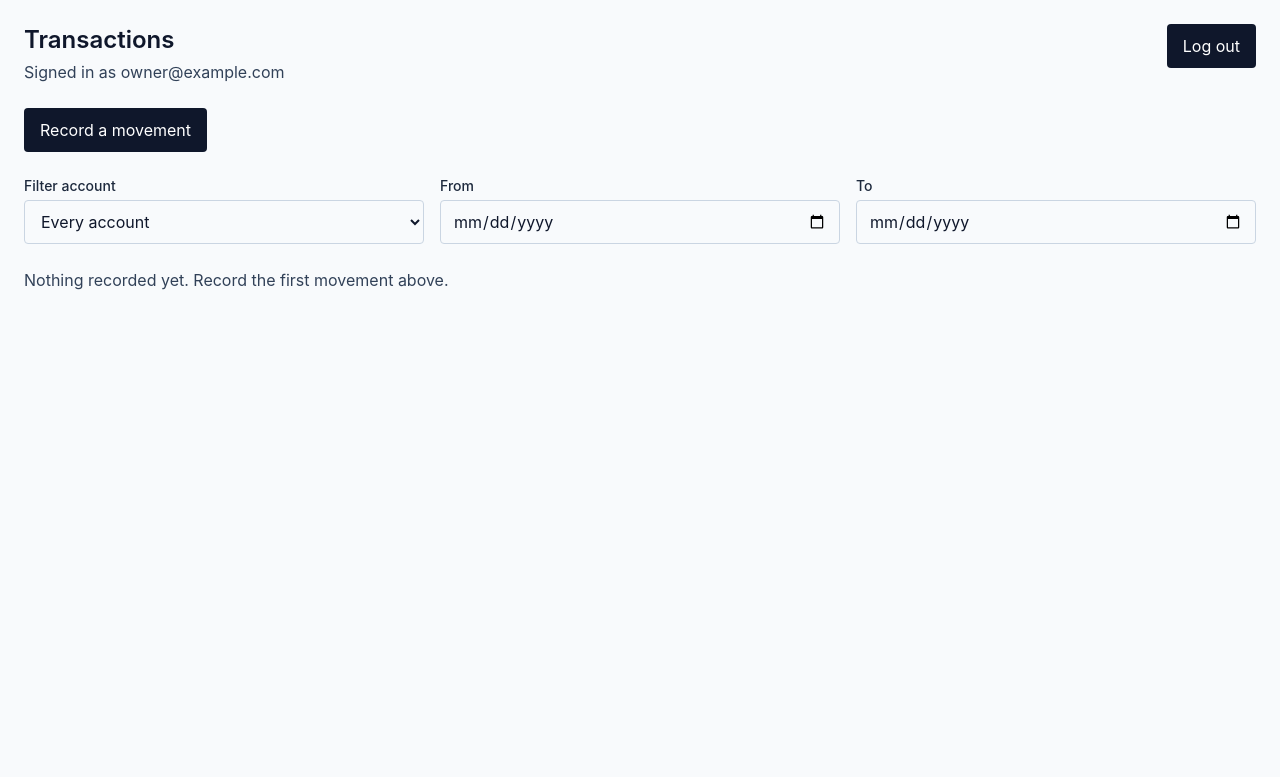
it: TransactionsPage › hides the form again when asked
The width and height of the screenshot is (1280, 777).
expect the text "Nothing recorded yet. Record the first movement above." is shown: met, box [24, 270, 449, 290]
Click the button "Record a movement".
click(116, 130)  # box [24, 108, 207, 152]
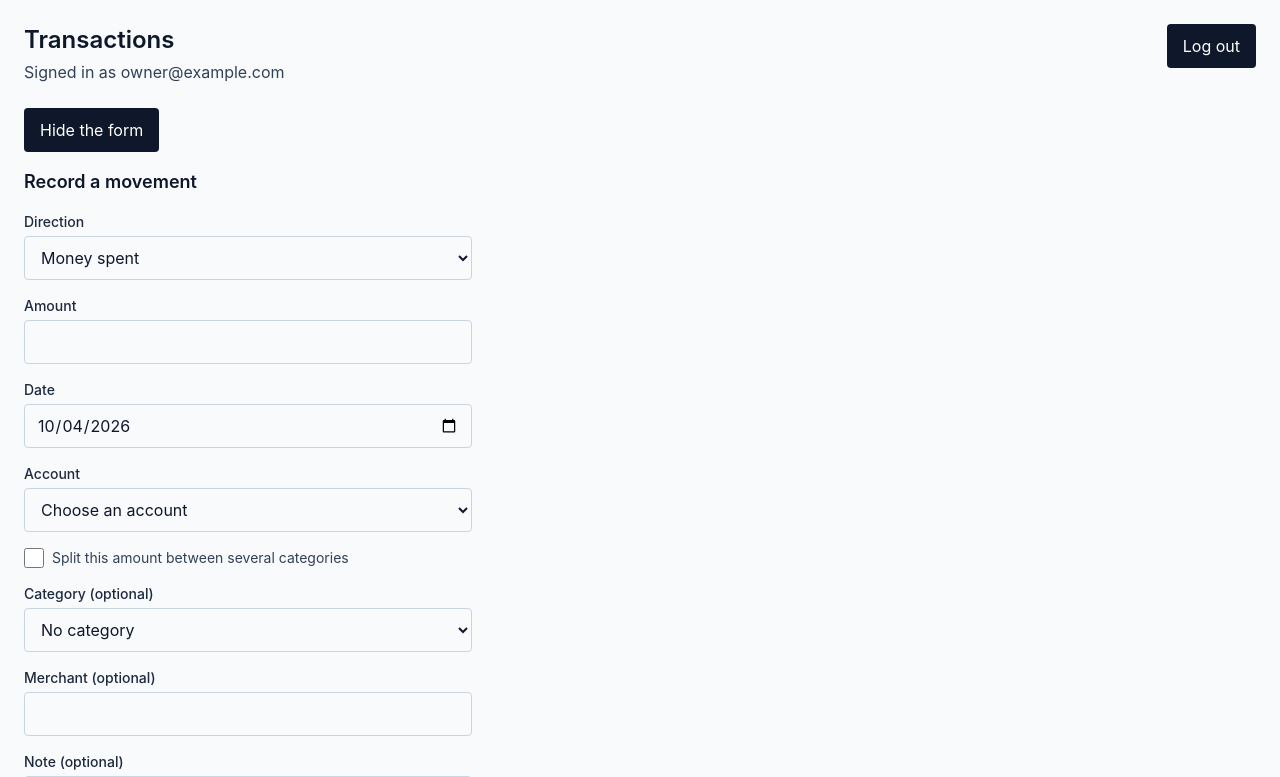
expect the field labelled "Amount" is shown: met, box [24, 320, 472, 364]
Click the button "Hide the form".
click(92, 130)  # box [24, 108, 159, 152]
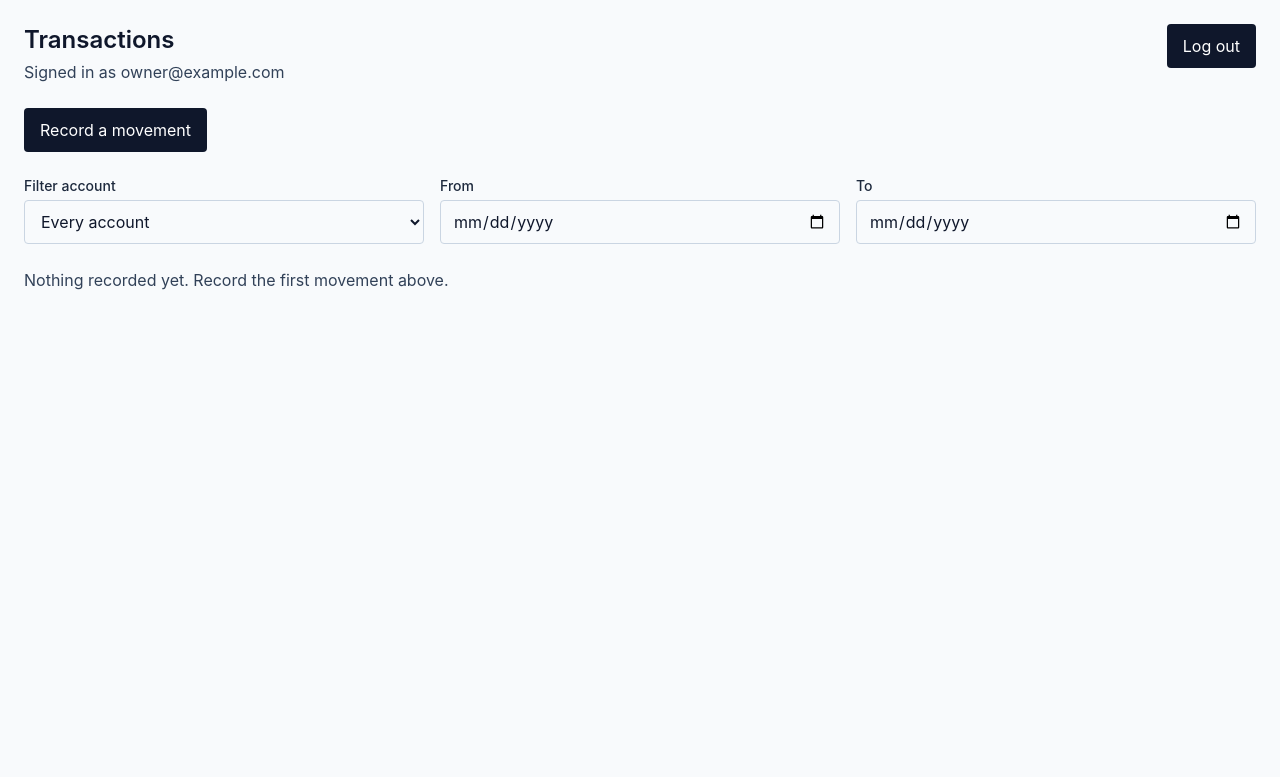
expect the label labelled "Amount" is gone: met
